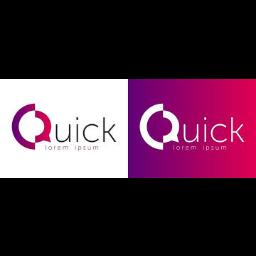c: (82, 121, 100, 143)
